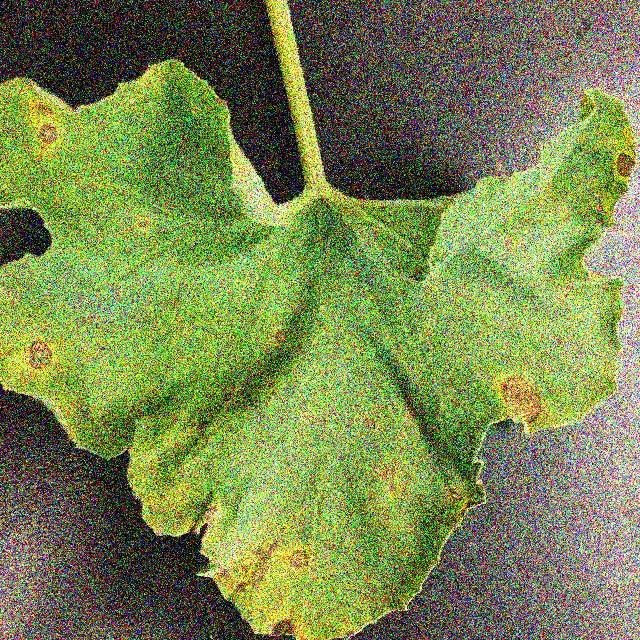leaf_spot: (0, 53, 640, 637)
